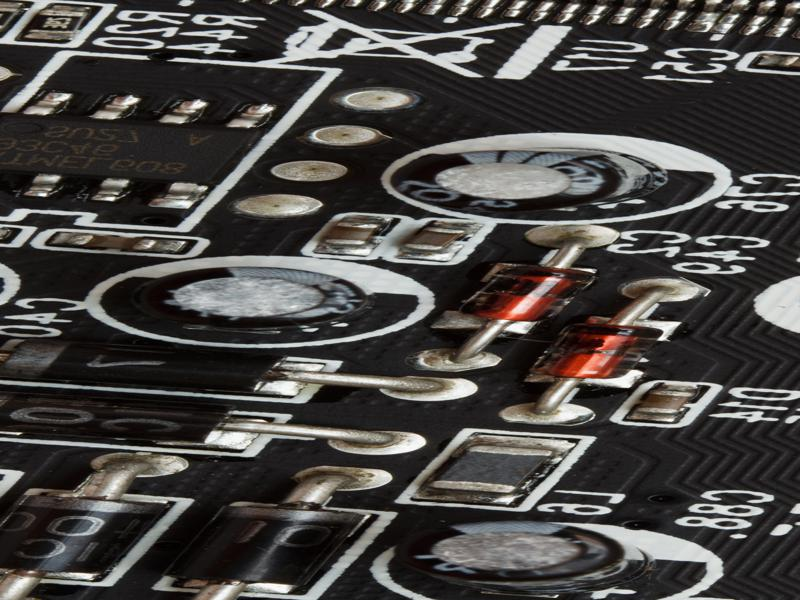Capacitor: (385, 516, 662, 598), (388, 143, 674, 220), (129, 262, 382, 337)
Diode: (1, 333, 304, 401), (154, 495, 374, 588), (1, 380, 247, 454), (1, 492, 193, 583), (456, 259, 601, 328), (529, 318, 667, 381)
